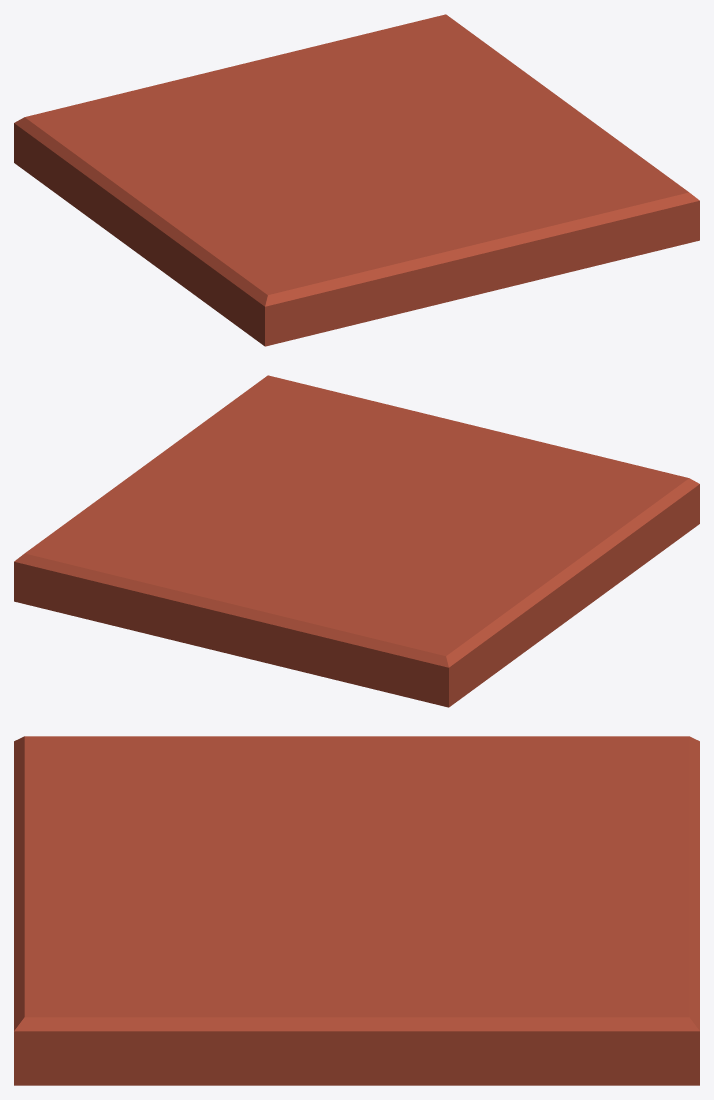
The model's file is mahsulot.glb.
3 views of the same model, one above another, from view 1: azimuth 30°, elevation 25°; view 2: azimuth 150°, elevation 25°; view 3: azimuth 270°, elevation 25° (orthographic). The views are drawn at different scales.
Parts seen in each view (by area): view 1: mahsulot_A; view 2: mahsulot_A; view 3: mahsulot_A.
Boxes of the visible parts, bbox=[...] form: mahsulot_A: bbox=[14, 14, 699, 346]; mahsulot_A: bbox=[14, 375, 699, 707]; mahsulot_A: bbox=[14, 736, 699, 1085].
Bounding box in the file's own units: 0.097 × 0.01 × 0.097.
